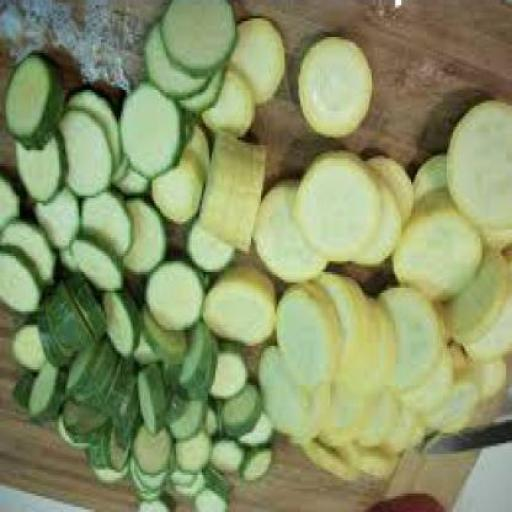biodegradable: (288, 156, 380, 269), (390, 203, 480, 304), (443, 103, 510, 234), (251, 180, 326, 290), (196, 138, 264, 258), (295, 42, 370, 140), (275, 280, 340, 391), (441, 246, 508, 352), (372, 293, 437, 399), (254, 348, 328, 441), (117, 84, 183, 183), (202, 264, 277, 351), (320, 270, 368, 401), (36, 280, 104, 372), (156, 3, 233, 84), (4, 55, 64, 153), (142, 26, 212, 103), (56, 111, 114, 203), (57, 93, 119, 174), (63, 353, 135, 422), (228, 21, 284, 108), (350, 166, 396, 270), (142, 261, 206, 332), (358, 158, 415, 232), (465, 279, 510, 367), (75, 192, 131, 262), (12, 137, 66, 209), (0, 223, 55, 290), (198, 72, 252, 140), (117, 204, 164, 282), (423, 375, 478, 441), (65, 243, 127, 299), (134, 306, 188, 370), (148, 161, 198, 227), (318, 390, 370, 452), (409, 346, 455, 415), (30, 190, 78, 256), (178, 322, 216, 404), (98, 288, 140, 362), (0, 248, 42, 319), (25, 364, 67, 434), (172, 63, 223, 119), (465, 352, 510, 410), (217, 382, 259, 444), (184, 224, 233, 274), (81, 428, 128, 480), (133, 372, 170, 438), (409, 153, 449, 211), (207, 343, 247, 399), (178, 116, 210, 184), (59, 404, 105, 449), (130, 431, 172, 480), (296, 449, 356, 483), (112, 374, 137, 454), (168, 401, 207, 448), (362, 404, 397, 456), (339, 451, 395, 483), (109, 161, 148, 201), (392, 412, 424, 459), (10, 330, 42, 375), (236, 412, 272, 451), (174, 440, 210, 478), (53, 414, 87, 454), (235, 451, 270, 488), (206, 443, 241, 478), (476, 227, 510, 262), (0, 174, 20, 230), (131, 467, 166, 497), (9, 375, 34, 414), (160, 396, 188, 430), (130, 340, 156, 372), (445, 343, 472, 372), (200, 472, 230, 497), (192, 491, 229, 511), (198, 409, 216, 444), (93, 470, 125, 488), (162, 369, 180, 401), (138, 499, 176, 511), (180, 119, 192, 151), (111, 163, 124, 190), (134, 494, 156, 507)
metal: (419, 425, 510, 459)
